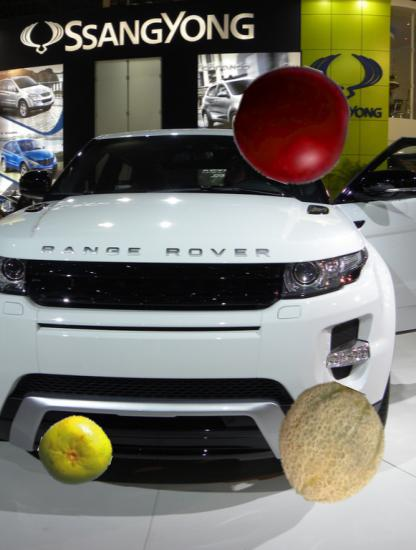Cantaloupe: (269, 384, 391, 506)
Cherry: (232, 64, 352, 184)
Pomelo: (39, 414, 113, 488)
